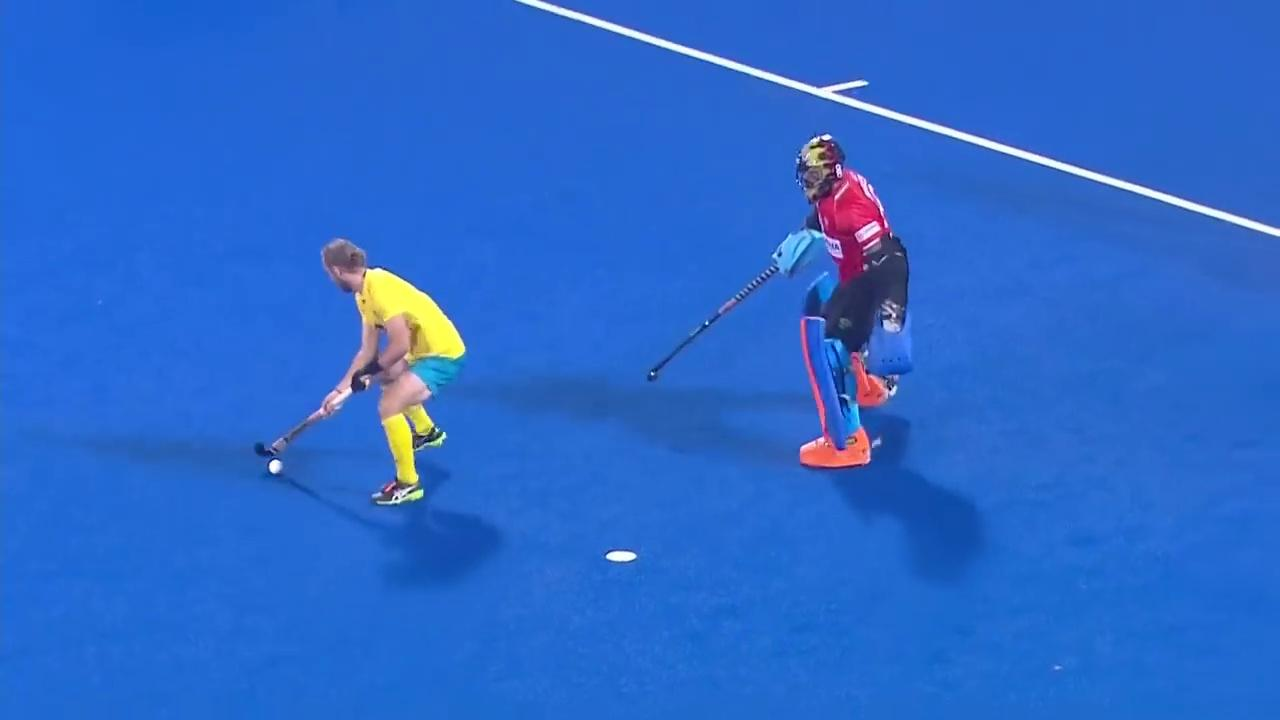ball: (245, 439, 309, 496)
